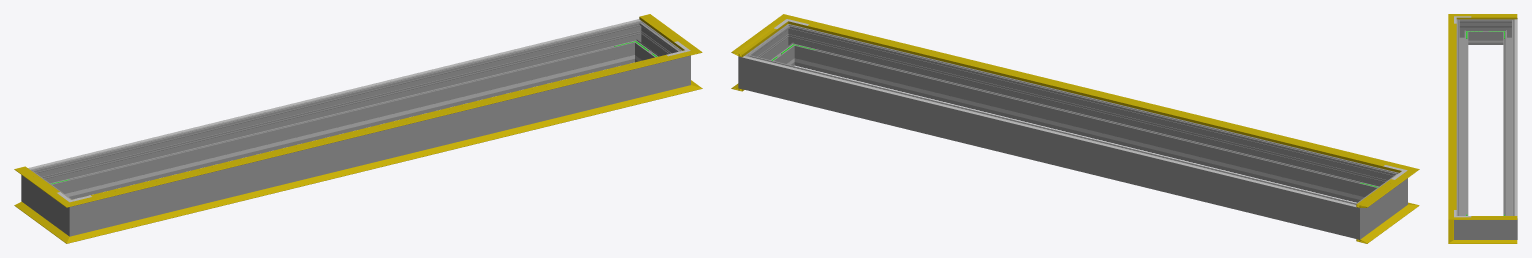
The picture shows the model from 3 angles, left to right: view 1: azimuth 30°, elevation 25°; view 2: azimuth 150°, elevation 25°; view 3: azimuth 270°, elevation 25°; orthographic projection. The views are drawn at different scales.
Visible parts, largest first — view 1: 3DGeom-278, 3DGeom-300, 3DGeom-28, 3DGeom-141, 3DGeom-246, 3DGeom-222, 3DGeom-158, 3DGeom-272, 3DGeom-292, 3DGeom-286, 3DGeom-270, 3DGeom-299 (+3 smaller); view 2: 3DGeom-300, 3DGeom-278, 3DGeom-141, 3DGeom-241, 3DGeom-222, 3DGeom-158, 3DGeom-280, 3DGeom-286, 3DGeom-292, 3DGeom-299, 3DGeom-270, 3DGeom-272 (+2 smaller); view 3: 3DGeom-300, 3DGeom-278, 3DGeom-141, 3DGeom-270, 3DGeom-299, 3DGeom-222, 3DGeom-158, 3DGeom-292, 3DGeom-286, 3DGeom-272, 3DGeom-147, 3DGeom-280 (+12 smaller).
Boxes of the visible parts, x1,y1,x2,y2 form: 3DGeom-278: [46, 25, 630, 199]; 3DGeom-300: [92, 61, 668, 230]; 3DGeom-28: [85, 89, 679, 238]; 3DGeom-141: [85, 54, 679, 202]; 3DGeom-246: [73, 60, 612, 195]; 3DGeom-222: [28, 19, 640, 169]; 3DGeom-158: [91, 55, 667, 196]; 3DGeom-272: [56, 193, 92, 236]; 3DGeom-292: [668, 45, 690, 90]; 3DGeom-286: [622, 20, 652, 63]; 3DGeom-270: [34, 177, 63, 226]; 3DGeom-299: [637, 28, 674, 61]; 3DGeom-300: [798, 28, 1383, 202]; 3DGeom-278: [761, 59, 1341, 234]; 3DGeom-141: [800, 19, 1396, 170]; 3DGeom-241: [816, 63, 1356, 198]; 3DGeom-222: [742, 56, 1356, 207]; 3DGeom-158: [807, 24, 1384, 166]; 3DGeom-280: [1337, 197, 1372, 239]; 3DGeom-286: [738, 48, 764, 93]; 3DGeom-292: [777, 24, 807, 66]; 3DGeom-299: [755, 32, 792, 65]; 3DGeom-270: [1366, 180, 1394, 229]; 3DGeom-272: [1374, 169, 1407, 213]; 3DGeom-300: [1456, 25, 1468, 215]; 3DGeom-278: [1503, 25, 1514, 215]; 3DGeom-141: [1448, 21, 1453, 212]; 3DGeom-270: [1471, 19, 1500, 44]; 3DGeom-299: [1471, 220, 1500, 239]; 3DGeom-222: [1515, 19, 1517, 217]; 3DGeom-158: [1454, 23, 1456, 209]; 3DGeom-292: [1454, 211, 1471, 239]; 3DGeom-286: [1500, 211, 1517, 239]; 3DGeom-272: [1456, 19, 1471, 44]; 3DGeom-147: [1465, 14, 1517, 19]; 3DGeom-280: [1500, 18, 1517, 44].
Bounding box in the file's own units: 4.27 × 0.2357 × 0.6096.
